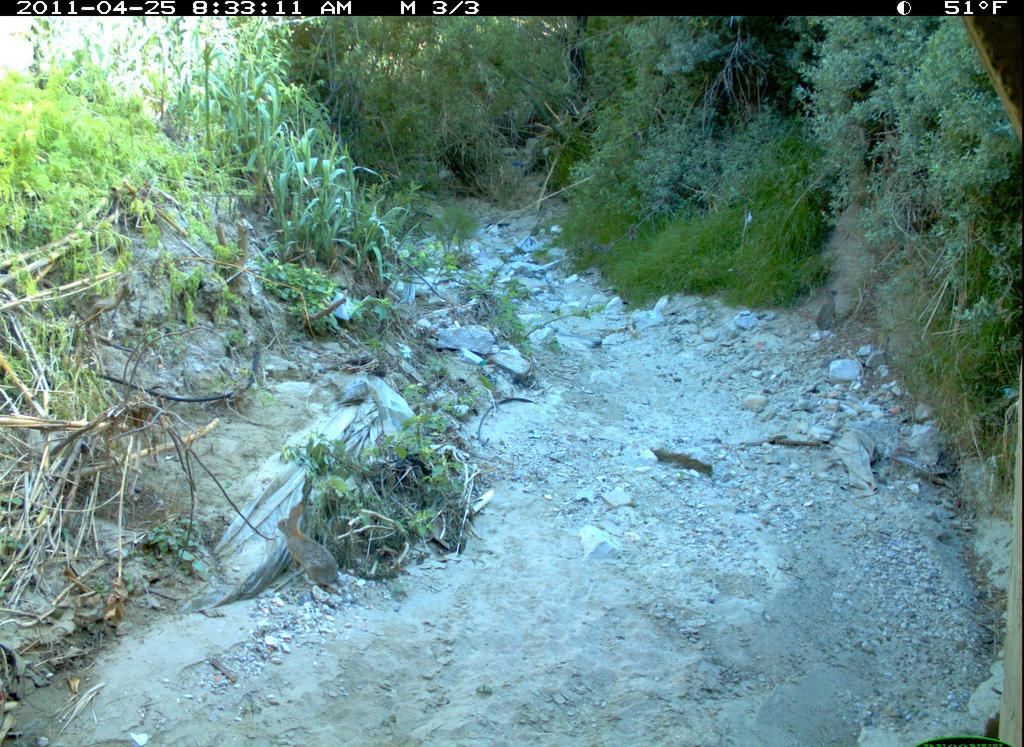rabbit: (265, 489, 369, 609)
